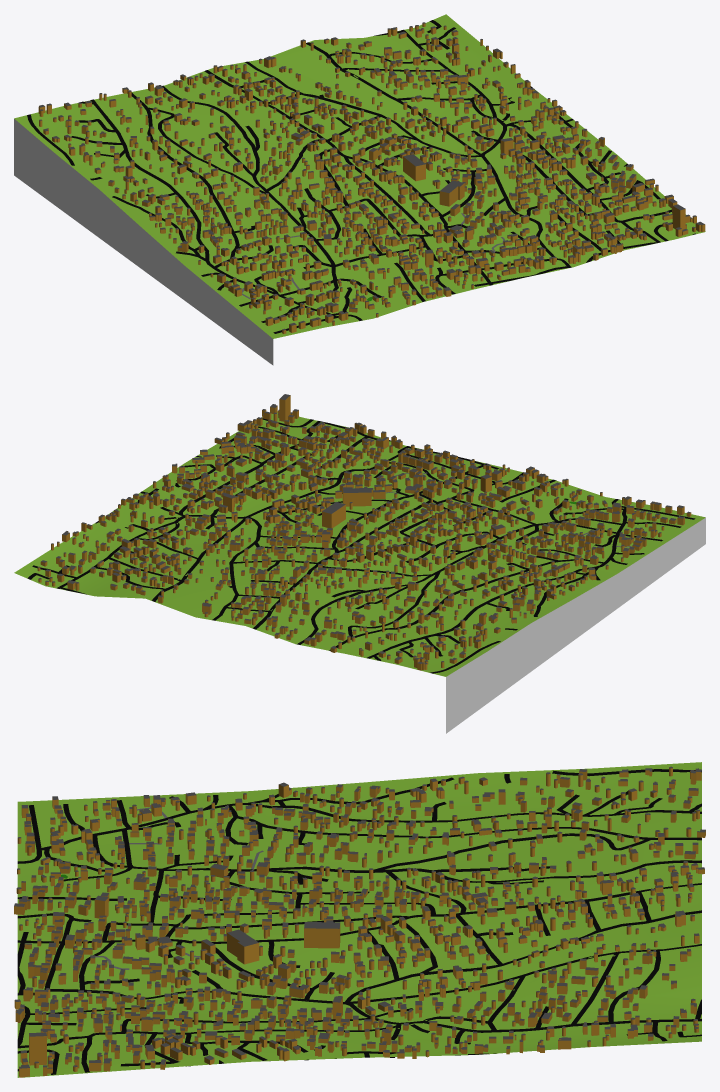
Rendered from tile_00_05.glb.
3 views of the same model, one above another, from view 1: azimuth 30°, elevation 25°; view 2: azimuth 150°, elevation 25°; view 3: azimuth 270°, elevation 25° (orthographic). The views are drawn at different scales.
Parts seen in each view (by area): view 1: Terrain_00_05, Ub_small.osm_buildings_00_05, Ub_small.osm_roads_residential_00_05; view 2: Terrain_00_05, Ub_small.osm_buildings_00_05, Ub_small.osm_roads_residential_00_05; view 3: Terrain_00_05, Ub_small.osm_buildings_00_05, Ub_small.osm_roads_residential_00_05.
Boxes of the visible parts, x1,y1,x2,y2 form: Terrain_00_05: [14, 14, 705, 365]; Ub_small.osm_buildings_00_05: [38, 22, 705, 333]; Ub_small.osm_roads_residential_00_05: [27, 20, 695, 333]; Terrain_00_05: [14, 411, 705, 733]; Ub_small.osm_buildings_00_05: [37, 394, 691, 670]; Ub_small.osm_roads_residential_00_05: [27, 417, 695, 673]; Terrain_00_05: [17, 762, 701, 1077]; Ub_small.osm_buildings_00_05: [14, 766, 705, 1077]; Ub_small.osm_roads_residential_00_05: [17, 769, 701, 1074].
Size of the model in its own units: 901 by 132 by 941.
